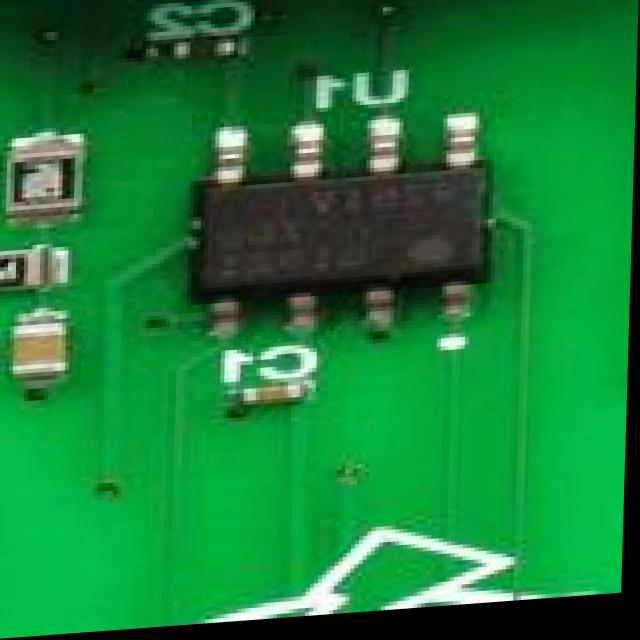IC: (182, 122, 508, 343)
capacitor: (13, 319, 76, 381), (232, 386, 303, 414), (168, 42, 239, 62)
resistor: (0, 147, 76, 218), (0, 253, 46, 296)
